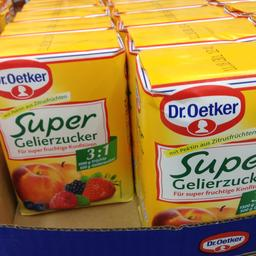sugar: (0, 28, 133, 218), (124, 40, 254, 225)
